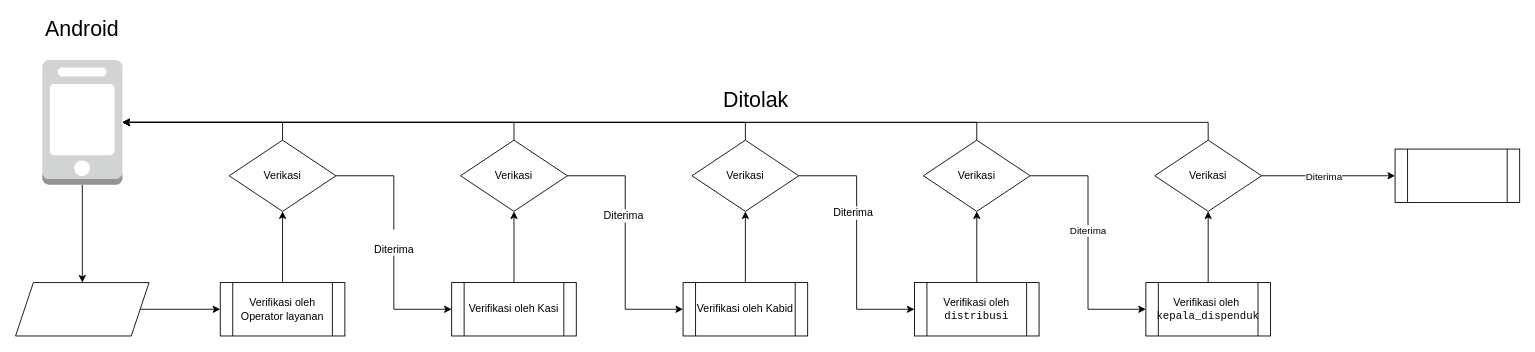
Image size: 1535x352. Some labels were removed from this diagram. Here are the shapes that lost their labels. From the top down, the box of each, then its label:
(1394, 148, 1520, 202): Dokumen Proses Cetak
(15, 282, 149, 336): Mengirim ke aplikasi layanan
